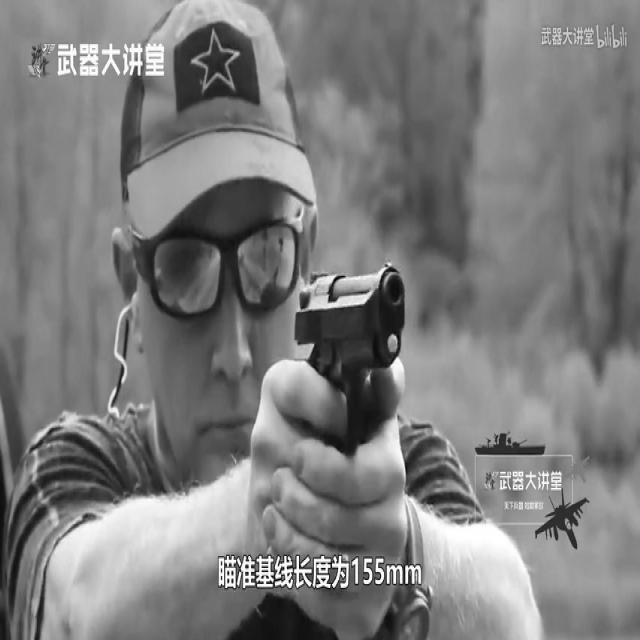Hand-Gun: (288, 244, 424, 441)
